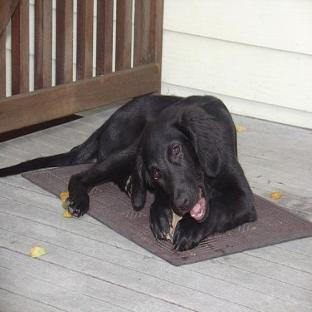Animal: (0, 95, 256, 250)
